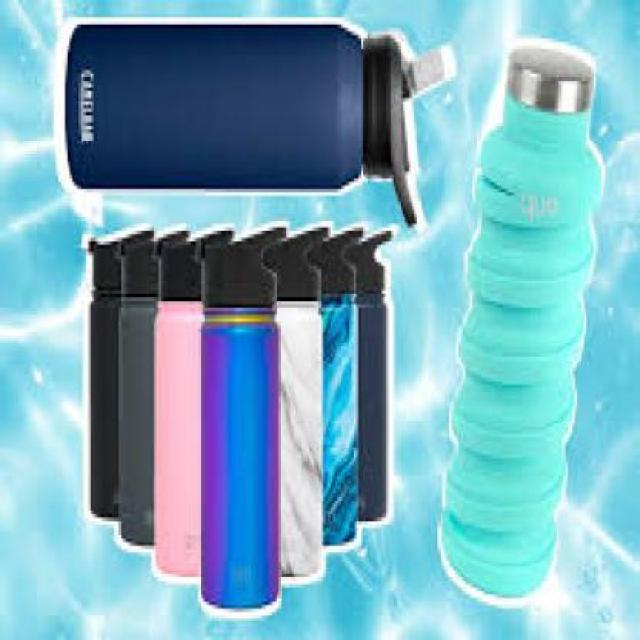Drinking: (46, 7, 449, 235), (456, 38, 612, 612)
